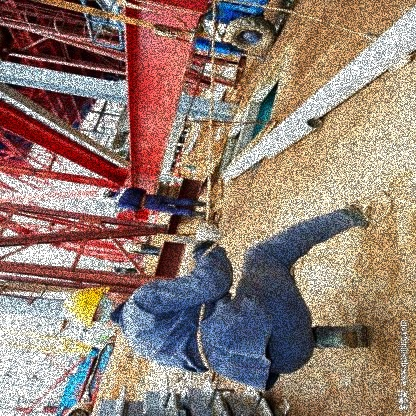yellow: (58, 276, 113, 334)
